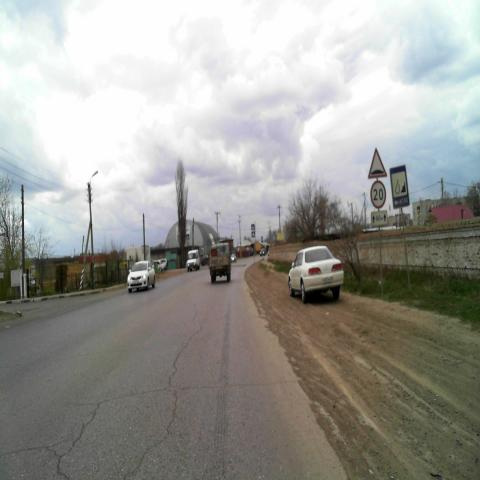1_17: (367, 148, 387, 178)
3_24: (370, 179, 386, 209)
8_2_1: (370, 210, 389, 228)
